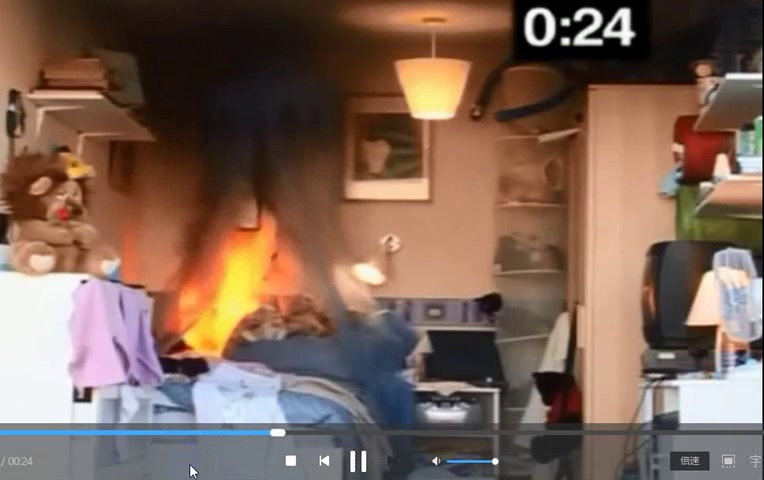fire: (167, 201, 284, 359)
